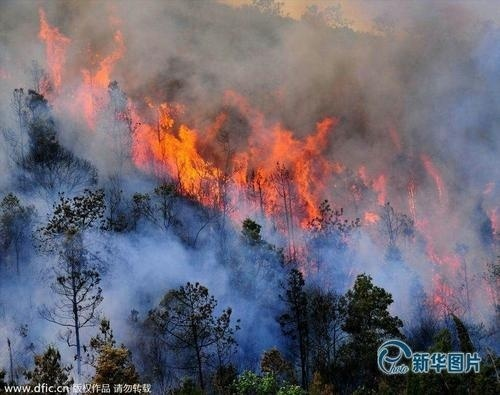fire: (331, 147, 500, 318), (34, 9, 127, 127)
